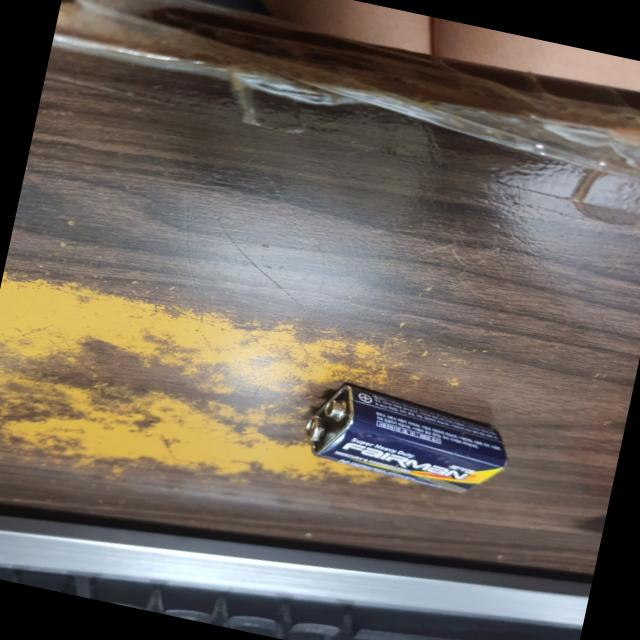battery-etc-etc: (283, 369, 525, 516)
